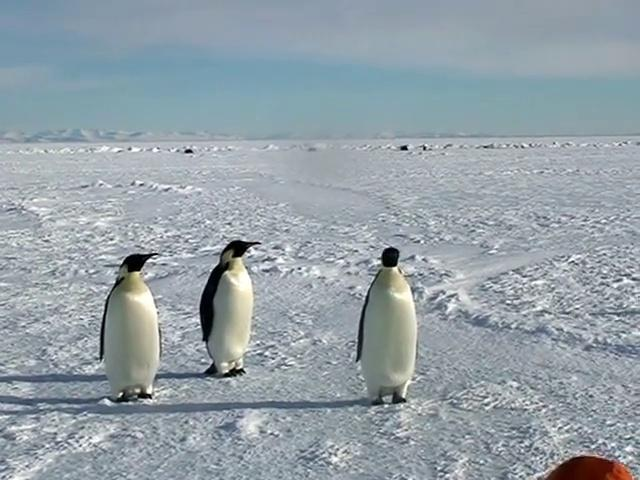animal: (357, 249, 417, 405)
